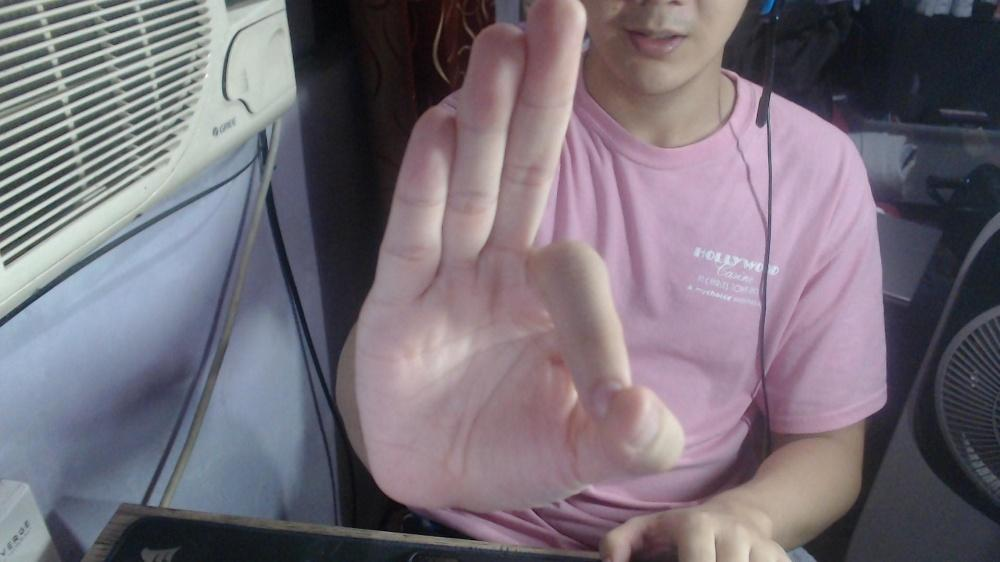f: (353, 0, 689, 518)
